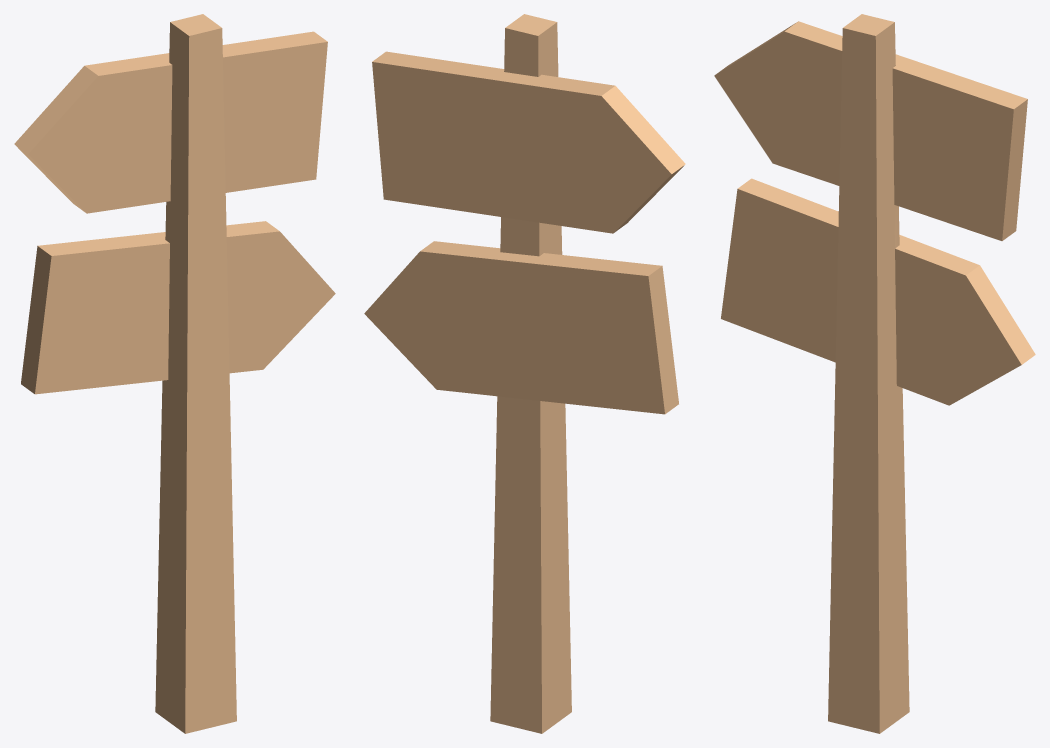
Rendered from sign.fbx.
The picture shows the model from 3 angles, left to right: view 1: azimuth 30°, elevation 25°; view 2: azimuth 150°, elevation 25°; view 3: azimuth 330°, elevation 25°; orthographic projection.
Visible parts, largest first — view 1: signpost; view 2: signpost; view 3: signpost.
Part boxes in pixels (x1=…): signpost: x1=14, y1=14, x2=335, y2=733; signpost: x1=364, y1=14, x2=685, y2=733; signpost: x1=714, y1=14, x2=1035, y2=733.
Bounding box in the file's own units: 21.41 × 46.01 × 4.3.
